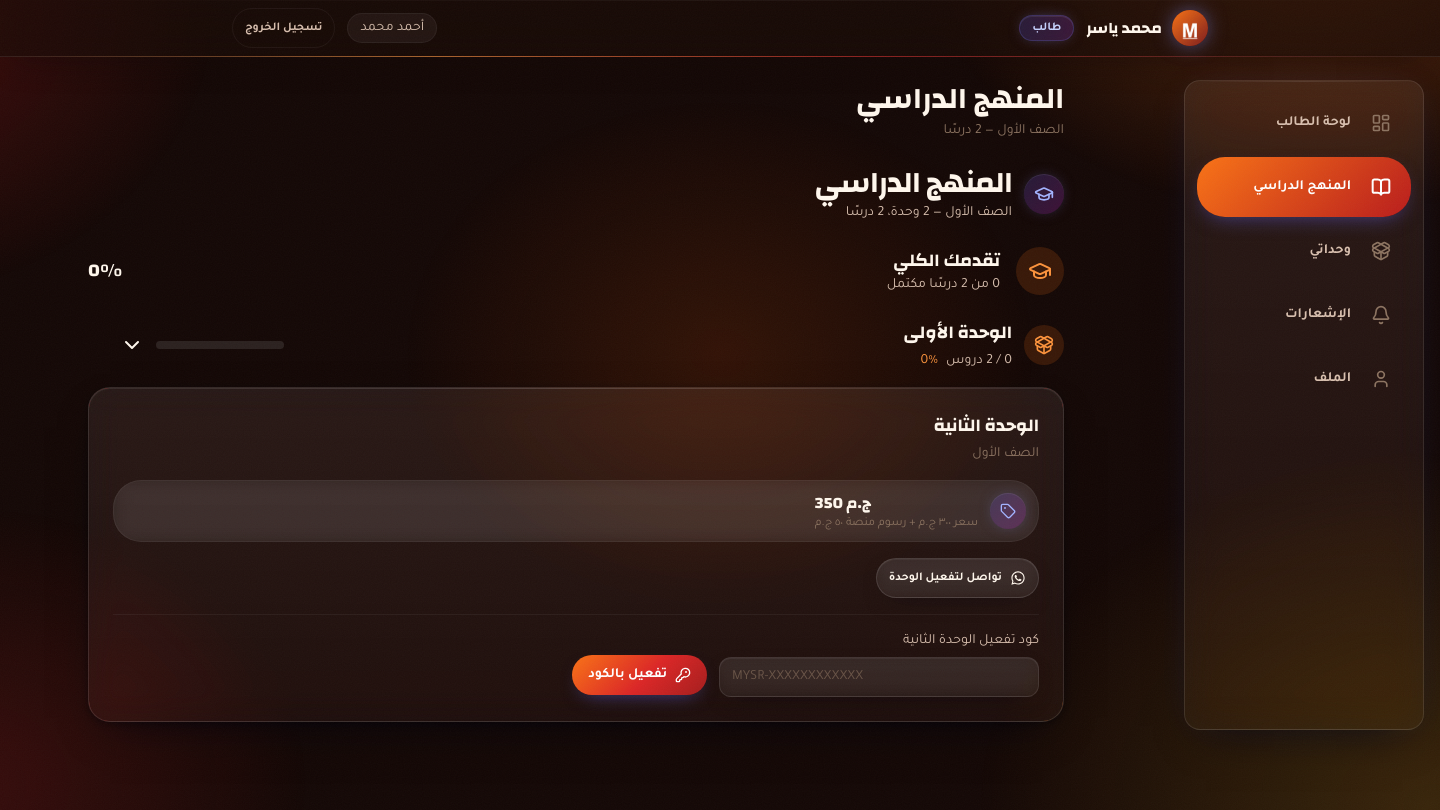
StudentCurriculumPage › redeems a unit code directly from a locked unit card
Type "MYSR-ABCD-EFGH-JKLM" into the field labelled "كود تفعيل الوحدة الثانية" at (879, 677), box [719,657,1039,697]
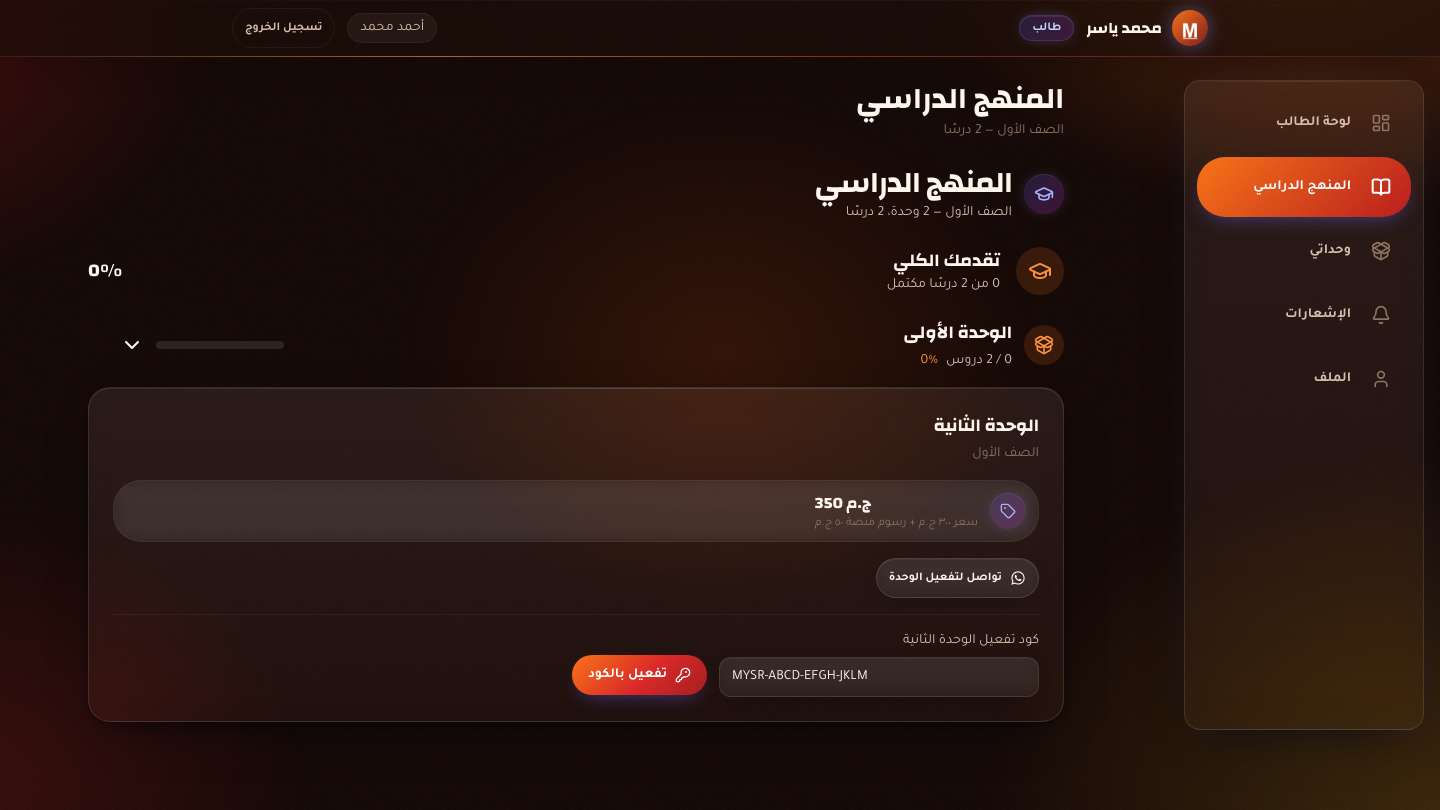
Click the button "تفعيل بالكود" at (640, 675), box [572,655,707,695]
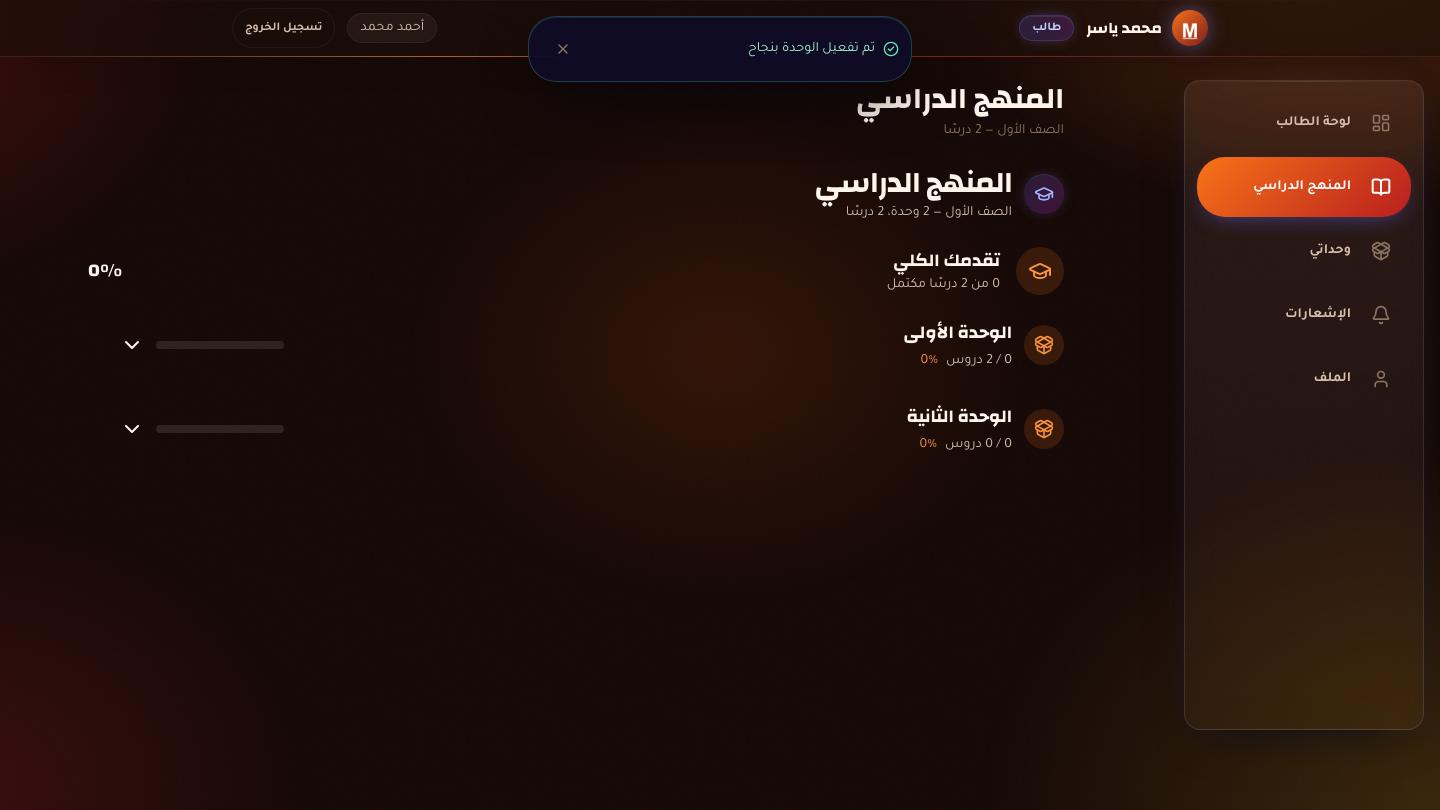
Check: the text "تم تفعيل الوحدة بنجاح" is shown, box [748,42,875,56]
